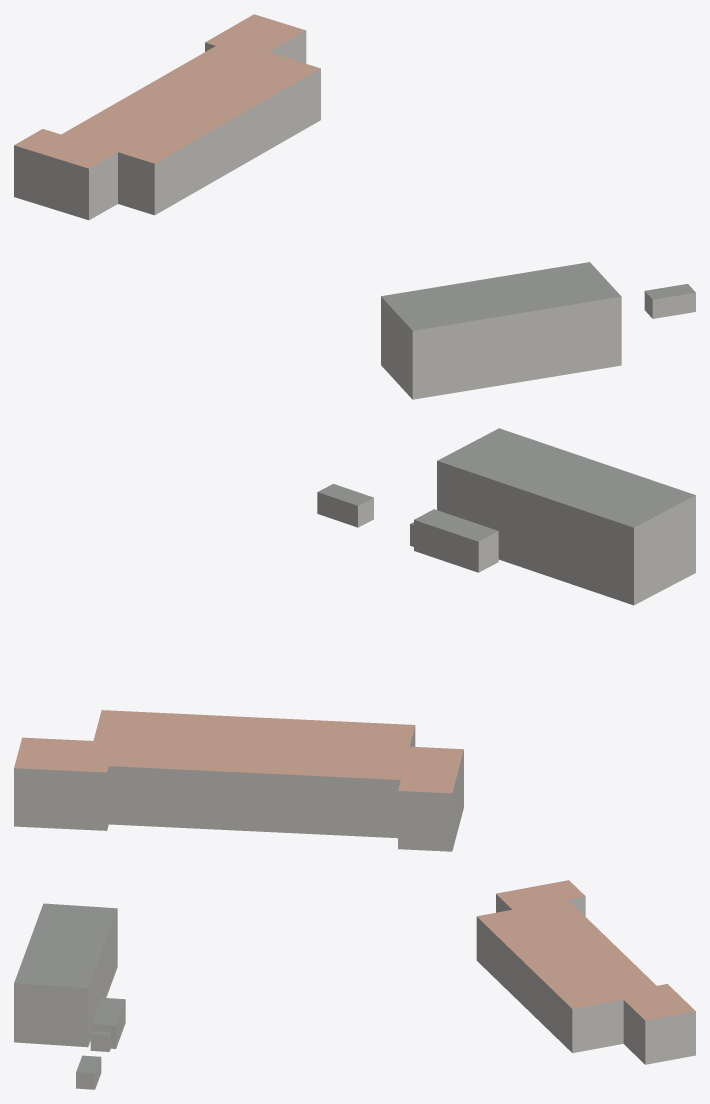
Rendered from gridID_115.dae.
The picture shows the model from 3 angles, top to bottom: view 1: azimuth 30°, elevation 25°; view 2: azimuth 150°, elevation 25°; view 3: azimuth 270°, elevation 25°; orthographic projection. The views are drawn at different scales.
Visible parts, largest first — view 1: model_gridID_115_w169917402, model_gridID_115_w380971698, model_gridID_115_w381440760_001; view 2: model_gridID_115_w169917402, model_gridID_115_w380971698, model_gridID_115_w380971698_001, model_gridID_115_w381440760_001; view 3: model_gridID_115_w169917402, model_gridID_115_w380971698, model_gridID_115_w380971698_001, model_gridID_115_w381440760_001, model_gridID_115_w381440761.
Boxes of the visible parts, x1,y1,x2,y2 form: model_gridID_115_w169917402: (14,14,320,220); model_gridID_115_w380971698: (381,262,621,399); model_gridID_115_w381440760_001: (644,284,695,318); model_gridID_115_w169917402: (14,710,463,851); model_gridID_115_w380971698: (437,428,695,605); model_gridID_115_w380971698_001: (414,509,498,572); model_gridID_115_w381440760_001: (317,484,373,527); model_gridID_115_w169917402: (476,880,695,1064); model_gridID_115_w380971698: (14,903,117,1047); model_gridID_115_w380971698_001: (92,997,125,1048); model_gridID_115_w381440760_001: (76,1055,101,1089); model_gridID_115_w381440761: (90,1031,110,1051).
Bounding box in the file's own units: 60.21 × 105 × 10.
